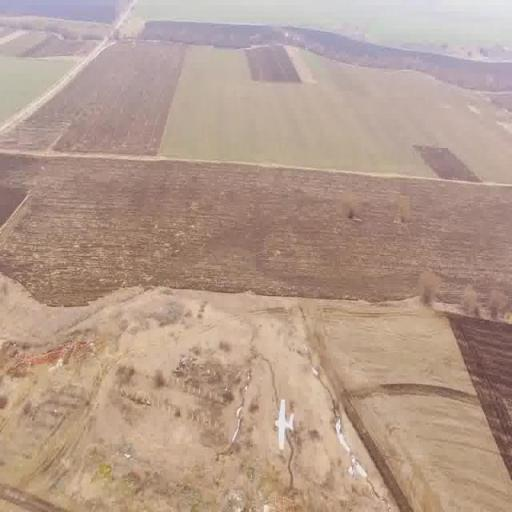uav: (262, 394, 303, 460)
